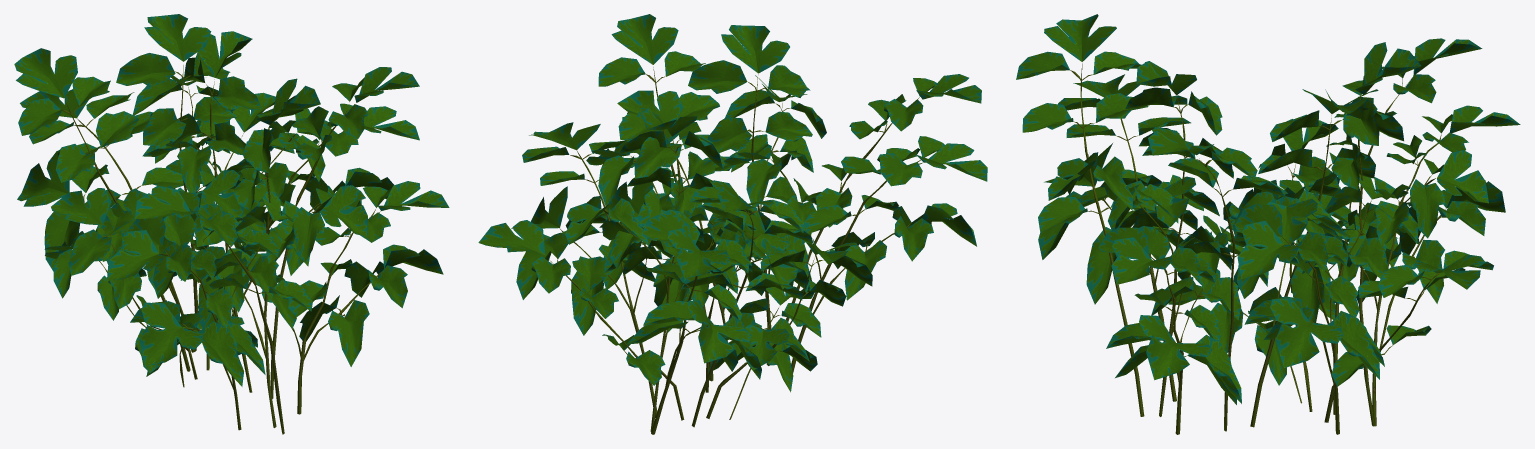
Rendered from preview.glb.
3 renders of one model, left to right at view 1: azimuth 30°, elevation 25°; view 2: azimuth 150°, elevation 25°; view 3: azimuth 270°, elevation 25°, orthographic. The views are drawn at different scales.
Parts seen in each view (by area): view 1: Plant_Coriandrum_sativum_B_Leaf_glb, Plant_Coriandrum_sativum_B_Stem_glb; view 2: Plant_Coriandrum_sativum_B_Leaf_glb, Plant_Coriandrum_sativum_B_Stem_glb; view 3: Plant_Coriandrum_sativum_B_Leaf_glb, Plant_Coriandrum_sativum_B_Stem_glb.
Part boxes in pixels (x1,y1,x2,y2): Plant_Coriandrum_sativum_B_Leaf_glb: [14, 14, 449, 386]; Plant_Coriandrum_sativum_B_Stem_glb: [61, 65, 382, 434]; Plant_Coriandrum_sativum_B_Leaf_glb: [478, 14, 987, 392]; Plant_Coriandrum_sativum_B_Stem_glb: [548, 67, 922, 434]; Plant_Coriandrum_sativum_B_Leaf_glb: [1016, 14, 1520, 404]; Plant_Coriandrum_sativum_B_Stem_glb: [1070, 63, 1445, 434].
Bounding box in the file's own units: 0.3017 × 0.2525 × 0.3189.
2 materials, 2 textured.
